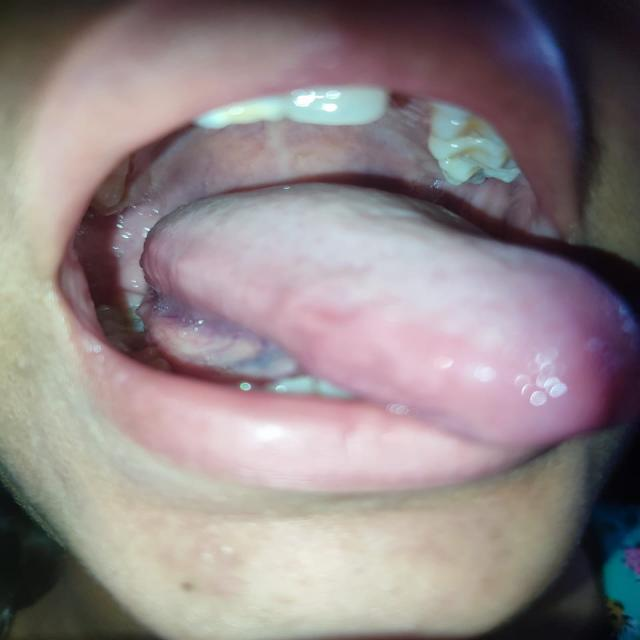No Cancer: (69, 104, 556, 363)
